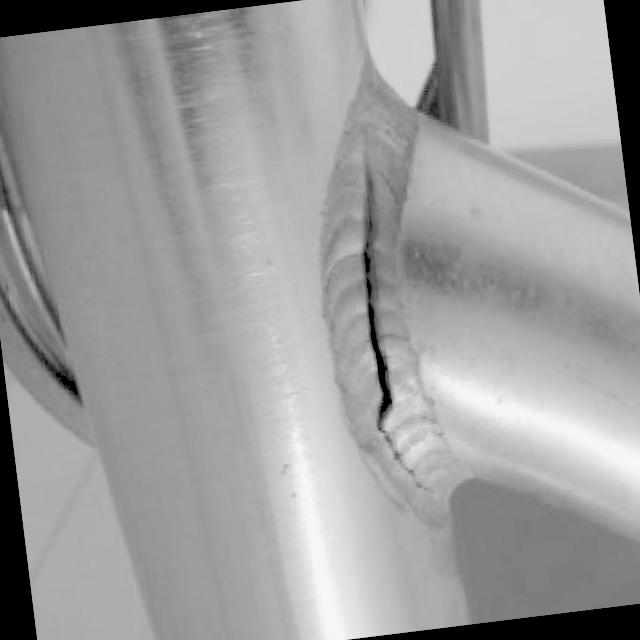crack: (344, 156, 401, 422), (380, 423, 430, 501)
